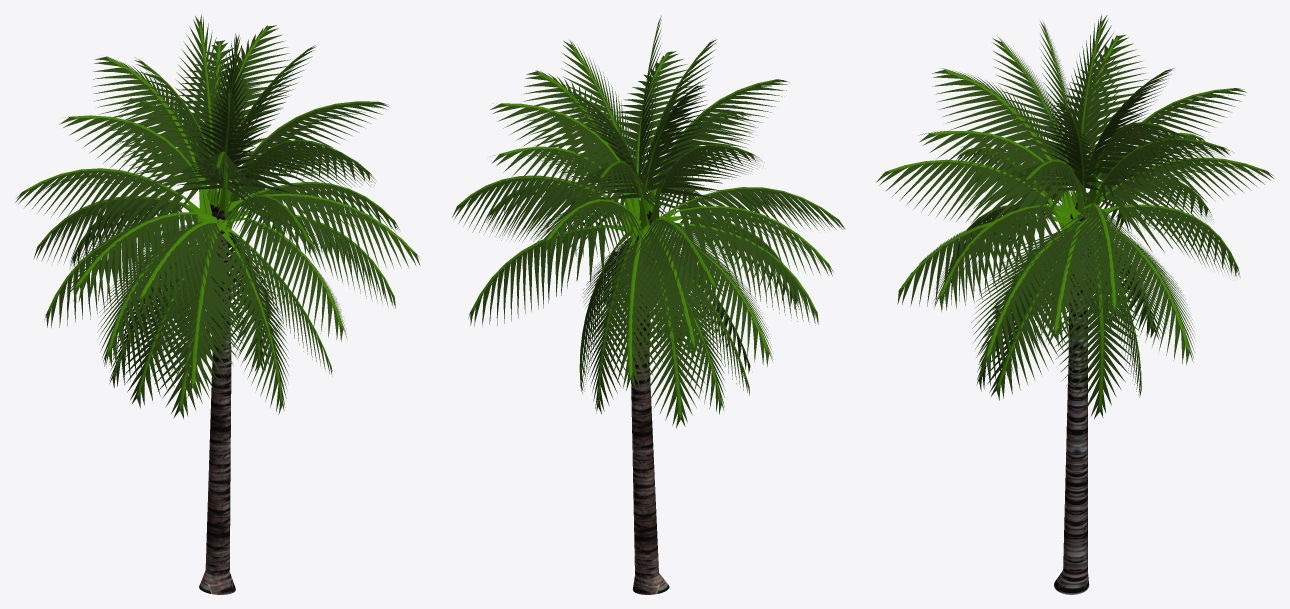
File: coconut_palm_tree.obj
3 views of the same model, side by side, from view 1: azimuth 30°, elevation 25°; view 2: azimuth 150°, elevation 25°; view 3: azimuth 270°, elevation 25° (orthographic).
Parts seen in each view (by area): view 1: Mesh37 COCO_LUMBER_4_SALE1 coconut1 Model, Mesh27 Component_4_27 Component_6_1 coconut1 Model, Mesh22 Component_4_22 Component_5_2 Component_6_1 coconut1 Model, Mesh35 Component_4_35 Component_6_1 coconut1 Model, Mesh2 Component_4_2 Component_6_1 coconut1 Model, Mesh10 Component_4_10 Component_5_1 Component_6_1 coconut1 Model, Mesh5 Component_4_5 Component_6_1 coconut1 Model, Mesh21 Component_4_21 Component_6_1 coconut1 Model, Mesh20 Component_4_20 Component_6_1 coconut1 Model, Mesh23 Component_4_23 Component_5_2 Component_6_1 coconut1 Model, Mesh18 Component_4_18 Component_6_1 coconut1 Model, Mesh6 Component_4_6 Component_6_1 coconut1 Model (+22 smaller); view 2: Mesh37 COCO_LUMBER_4_SALE1 coconut1 Model, Mesh16 Component_4_16 Component_6_1 coconut1 Model, Mesh11 Component_4_11 Component_6_1 coconut1 Model, Mesh36 Component_4_36 Component_6_1 coconut1 Model, Mesh9 Component_4_9 Component_5_1 Component_6_1 coconut1 Model, Mesh1 Component_4_1 Component_6_1 coconut1 Model, Mesh35 Component_4_35 Component_6_1 coconut1 Model, Mesh10 Component_4_10 Component_5_1 Component_6_1 coconut1 Model, Mesh28 Component_4_28 Component_6_1 coconut1 Model, Mesh18 Component_4_18 Component_6_1 coconut1 Model, Mesh31 Component_4_31 Component_6_1 coconut1 Model, Mesh19 Component_4_19 Component_6_1 coconut1 Model (+22 smaller); view 3: Mesh37 COCO_LUMBER_4_SALE1 coconut1 Model, Mesh7 Component_4_7 Component_6_1 coconut1 Model, Mesh13 Component_4_13 Component_6_1 coconut1 Model, Mesh9 Component_4_9 Component_5_1 Component_6_1 coconut1 Model, Mesh23 Component_4_23 Component_5_2 Component_6_1 coconut1 Model, Mesh12 Component_4_12 Component_6_1 coconut1 Model, Mesh8 Component_4_8 Component_5_1 Component_6_1 coconut1 Model, Mesh11 Component_4_11 Component_6_1 coconut1 Model, Mesh19 Component_4_19 Component_6_1 coconut1 Model, Mesh29 Component_4_29 Component_6_1 coconut1 Model, Mesh24 Component_4_24 Component_5_2 Component_6_1 coconut1 Model, Mesh20 Component_4_20 Component_6_1 coconut1 Model (+19 smaller).
Boxes of the visible parts, <box> form: Mesh37 COCO_LUMBER_4_SALE1 coconut1 Model: <box>199,204,235,594</box>; Mesh27 Component_4_27 Component_6_1 coconut1 Model: <box>155,219,258,398</box>; Mesh22 Component_4_22 Component_5_2 Component_6_1 coconut1 Model: <box>122,221,240,312</box>; Mesh35 Component_4_35 Component_6_1 coconut1 Model: <box>66,212,228,303</box>; Mesh2 Component_4_2 Component_6_1 coconut1 Model: <box>214,232,288,414</box>; Mesh10 Component_4_10 Component_5_1 Component_6_1 coconut1 Model: <box>15,168,212,229</box>; Mesh5 Component_4_5 Component_6_1 coconut1 Model: <box>92,56,205,211</box>; Mesh21 Component_4_21 Component_6_1 coconut1 Model: <box>59,115,212,227</box>; Mesh20 Component_4_20 Component_6_1 coconut1 Model: <box>225,216,346,341</box>; Mesh23 Component_4_23 Component_5_2 Component_6_1 coconut1 Model: <box>228,193,420,268</box>; Mesh18 Component_4_18 Component_6_1 coconut1 Model: <box>97,221,228,366</box>; Mesh6 Component_4_6 Component_6_1 coconut1 Model: <box>147,232,250,418</box>; Mesh37 COCO_LUMBER_4_SALE1 coconut1 Model: <box>631,210,669,594</box>; Mesh16 Component_4_16 Component_6_1 coconut1 Model: <box>589,229,687,390</box>; Mesh11 Component_4_11 Component_6_1 coconut1 Model: <box>468,225,649,326</box>; Mesh36 Component_4_36 Component_6_1 coconut1 Model: <box>627,225,721,360</box>; Mesh9 Component_4_9 Component_5_1 Component_6_1 coconut1 Model: <box>452,175,635,240</box>; Mesh1 Component_4_1 Component_6_1 coconut1 Model: <box>616,237,710,428</box>; Mesh35 Component_4_35 Component_6_1 coconut1 Model: <box>651,206,833,276</box>; Mesh10 Component_4_10 Component_5_1 Component_6_1 coconut1 Model: <box>629,218,737,300</box>; Mesh28 Component_4_28 Component_6_1 coconut1 Model: <box>490,103,641,228</box>; Mesh18 Component_4_18 Component_6_1 coconut1 Model: <box>658,223,818,325</box>; Mesh31 Component_4_31 Component_6_1 coconut1 Model: <box>648,227,773,366</box>; Mesh19 Component_4_19 Component_6_1 coconut1 Model: <box>647,79,789,212</box>; Mesh37 COCO_LUMBER_4_SALE1 coconut1 Model: <box>1054,203,1089,594</box>; Mesh7 Component_4_7 Component_6_1 coconut1 Model: <box>971,224,1091,371</box>; Mesh13 Component_4_13 Component_6_1 coconut1 Model: <box>1054,217,1138,418</box>; Mesh9 Component_4_9 Component_5_1 Component_6_1 coconut1 Model: <box>1053,203,1150,322</box>; Mesh23 Component_4_23 Component_5_2 Component_6_1 coconut1 Model: <box>933,204,1082,311</box>; Mesh12 Component_4_12 Component_6_1 coconut1 Model: <box>1019,219,1124,346</box>; Mesh8 Component_4_8 Component_5_1 Component_6_1 coconut1 Model: <box>876,159,1069,237</box>; Mesh11 Component_4_11 Component_6_1 coconut1 Model: <box>1083,218,1195,365</box>; Mesh19 Component_4_19 Component_6_1 coconut1 Model: <box>932,68,1070,227</box>; Mesh29 Component_4_29 Component_6_1 coconut1 Model: <box>919,131,1079,226</box>; Mesh24 Component_4_24 Component_5_2 Component_6_1 coconut1 Model: <box>1087,157,1273,223</box>; Mesh20 Component_4_20 Component_6_1 coconut1 Model: <box>897,215,1074,307</box>.
Size of the model in its own units: 300 by 469 by 298.
Materials: 3 (1 with a texture image).
